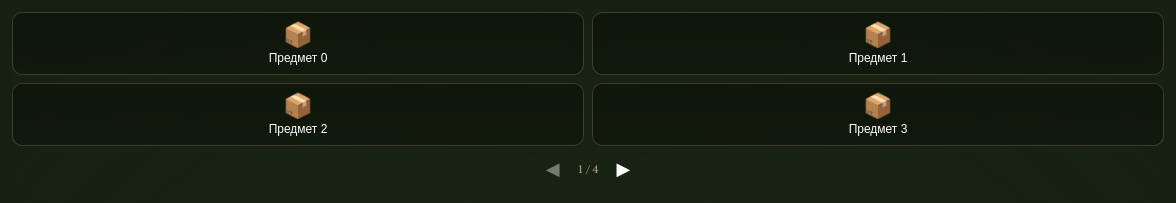
Test: ItemPicker › блокирует стрелки на краях
This screenshot has width=1176, height=203.
Expected: the button "◀" is disabled, [538,152,568,186]
Click the button "▶" at (623, 169), box [608,152,638,186]
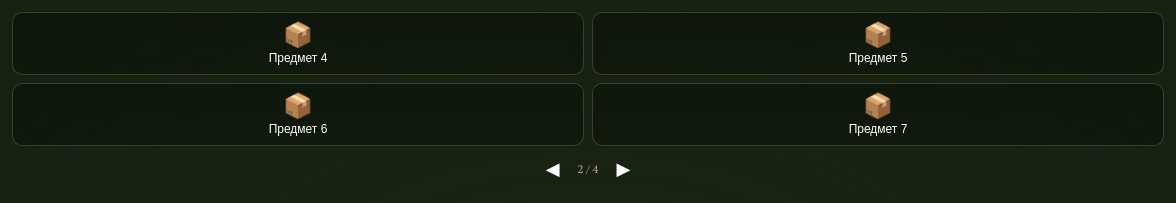
Click the button "▶" at (623, 169), box [608,152,638,186]
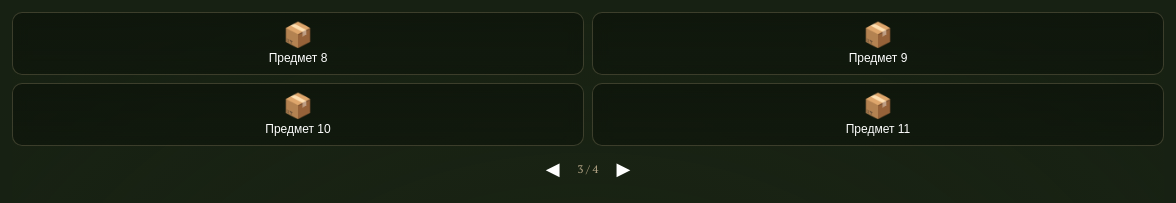
Click the button "▶" at (623, 169), box [608,152,638,186]
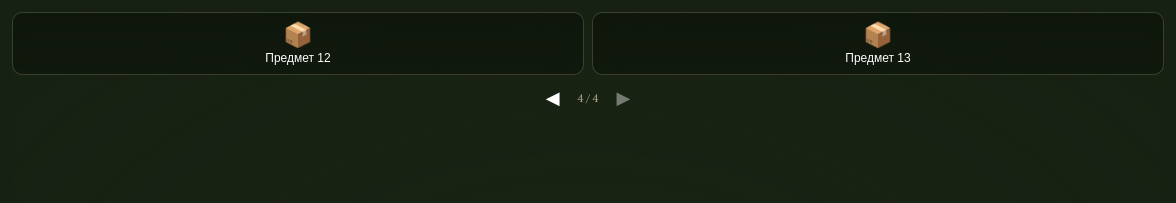
Result: the button "▶" is disabled at [608,81,638,115]
